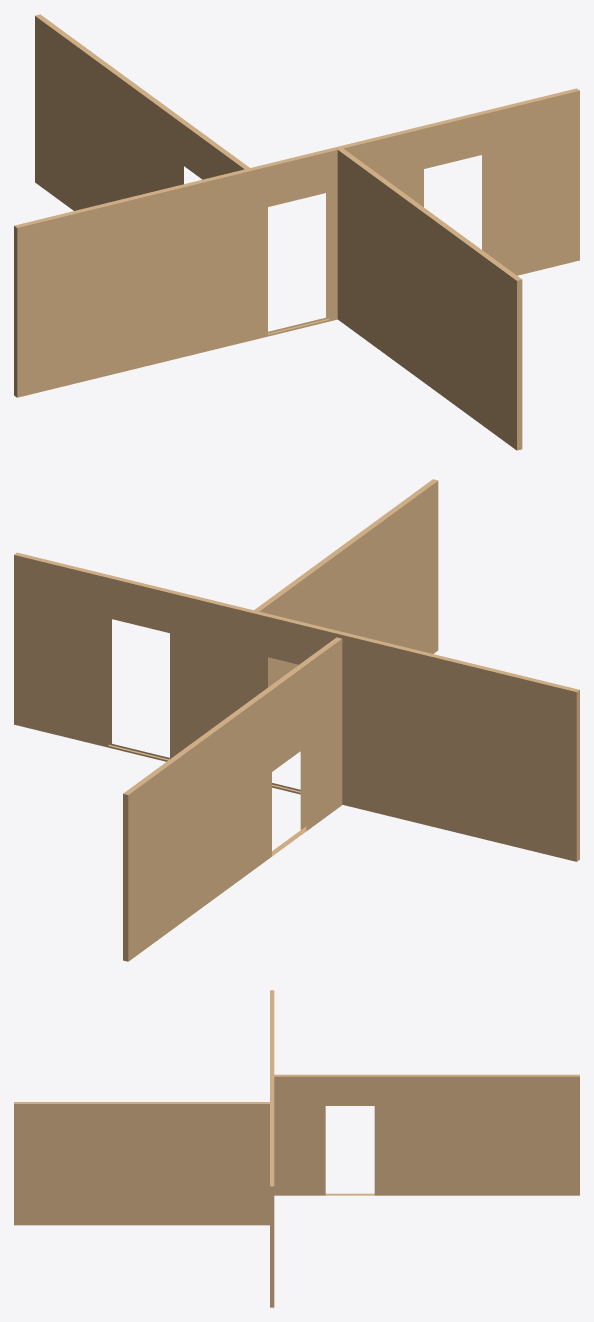
The model's file is HouseInteriorWalls.fbx.
The picture shows the model from 3 angles, top to bottom: view 1: azimuth 30°, elevation 25°; view 2: azimuth 150°, elevation 25°; view 3: azimuth 270°, elevation 25°; orthographic projection. The views are drawn at different scales.
Parts seen in each view (by area): view 1: Cube; view 2: Cube; view 3: Cube.
Part boxes in pixels (bbox=[...]): Cube: bbox=[14, 14, 579, 450]; Cube: bbox=[14, 479, 579, 961]; Cube: bbox=[14, 990, 579, 1307].
Bounding box in the file's own units: 2820 × 816 × 3437.
